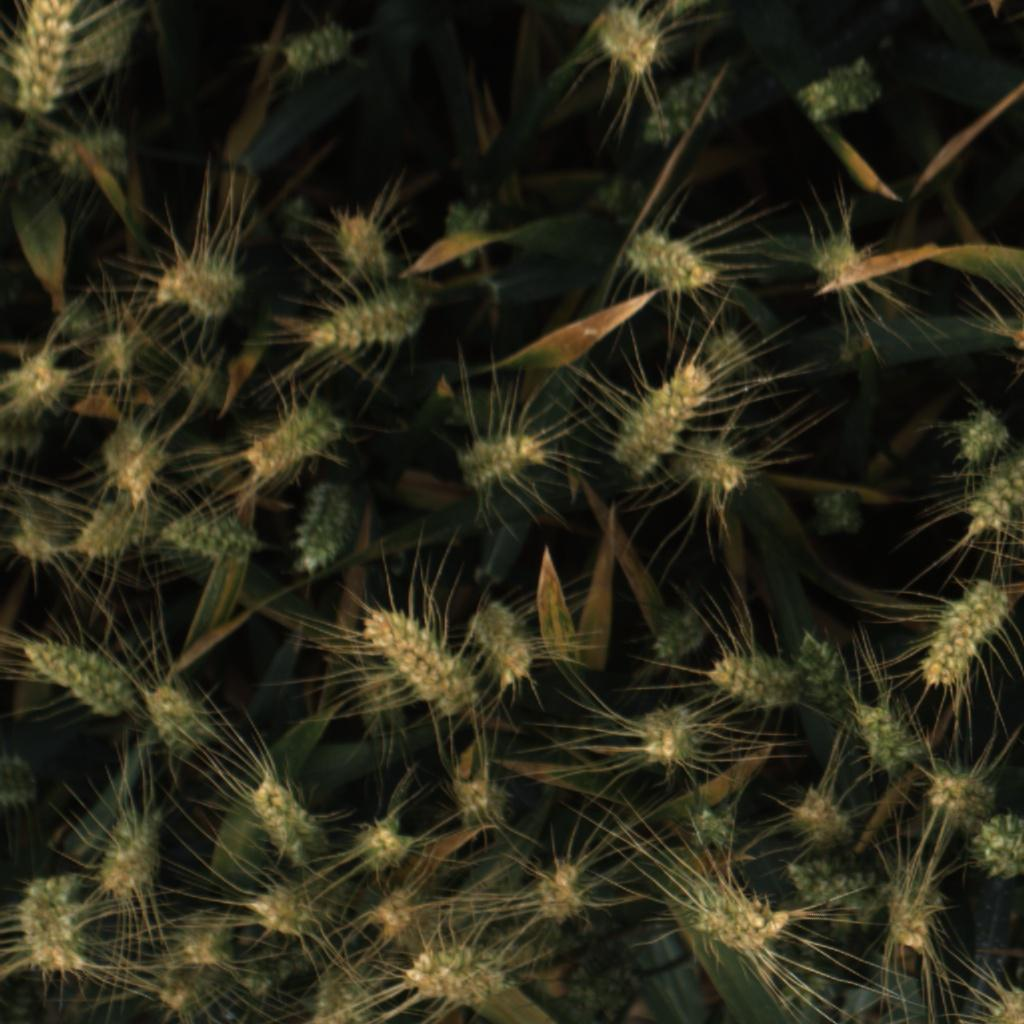0-0: (355, 603, 488, 743), (605, 362, 708, 474), (19, 620, 129, 719), (919, 579, 1005, 693), (241, 392, 347, 477), (305, 282, 426, 356), (15, 865, 88, 977), (14, 0, 81, 117), (681, 871, 772, 956), (401, 943, 516, 1006), (289, 482, 363, 579), (96, 416, 176, 502), (138, 676, 223, 756), (99, 803, 171, 897), (244, 769, 317, 861), (157, 247, 243, 324), (222, 937, 328, 999), (623, 227, 722, 292), (784, 855, 893, 913), (707, 646, 804, 710), (794, 59, 884, 127), (271, 11, 359, 80), (7, 337, 72, 429), (879, 865, 947, 952), (139, 936, 211, 1018), (44, 118, 129, 187), (319, 204, 395, 280), (963, 443, 1024, 537), (471, 599, 535, 688), (447, 428, 545, 486), (798, 624, 859, 716), (776, 784, 854, 854), (593, 6, 659, 88), (76, 500, 150, 573), (157, 509, 256, 563), (561, 949, 635, 1021), (641, 71, 711, 147), (846, 707, 916, 782), (681, 425, 749, 501), (8, 485, 66, 573), (643, 596, 716, 665), (78, 4, 142, 82), (922, 761, 1001, 823), (244, 878, 324, 937), (346, 809, 419, 873), (445, 765, 515, 830), (634, 705, 707, 766), (675, 792, 749, 852), (359, 882, 429, 943), (970, 802, 1024, 881), (178, 902, 240, 967), (949, 401, 1010, 467), (805, 477, 869, 539), (533, 859, 591, 920), (0, 747, 49, 817), (803, 221, 862, 279), (310, 976, 369, 1020)
